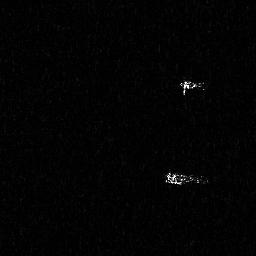ship: (163, 169, 208, 186), (179, 78, 206, 95)
